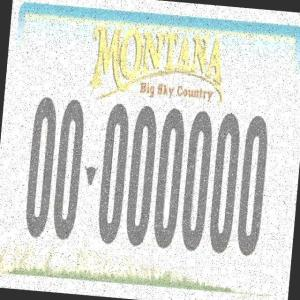Plate: (23, 89, 276, 259)
